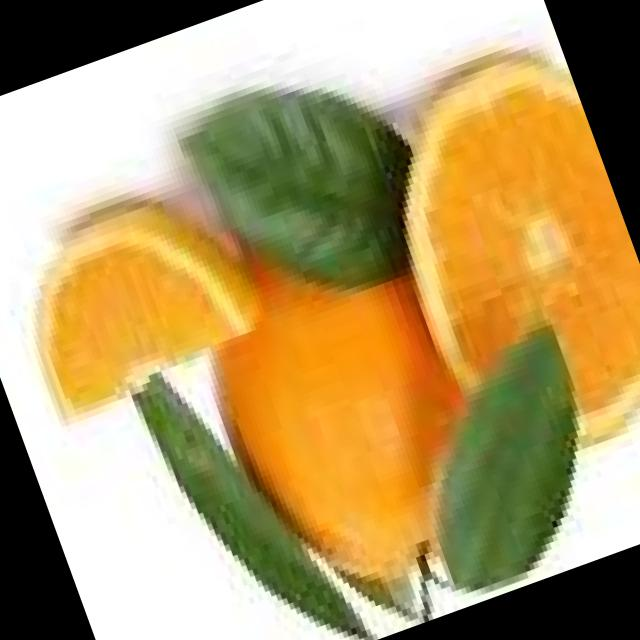orange: (219, 257, 577, 589), (407, 58, 640, 443), (42, 206, 258, 417)
